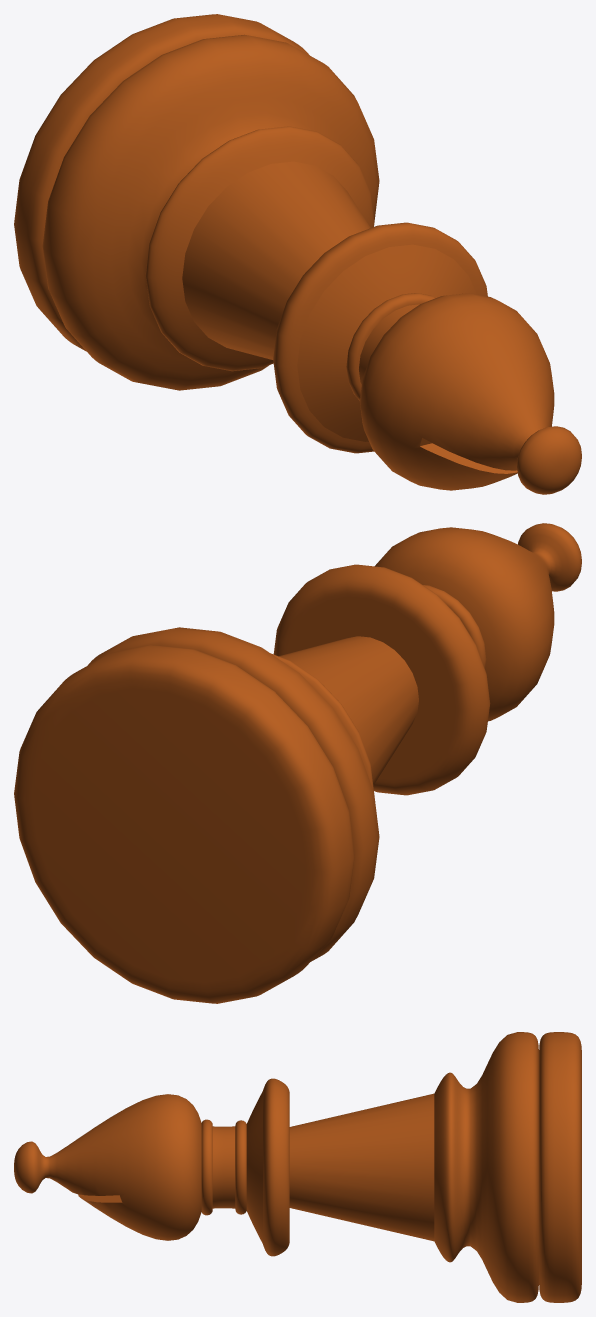
Rendered from bishop.obj.
3 renders of one model, top to bottom at view 1: azimuth 30°, elevation 25°; view 2: azimuth 150°, elevation 25°; view 3: azimuth 270°, elevation 25°, orthographic. The views are drawn at different scales.
Parts seen in each view (by area): view 1: slon02; view 2: slon02; view 3: slon02.
Part boxes in pixels (left/top/right/bottom): slon02: left=14, top=14, right=581, bottom=494; slon02: left=14, top=523, right=581, bottom=1003; slon02: left=14, top=1032, right=581, bottom=1302.
Bounding box in the file's own units: 32.44 × 32.44 × 67.75.
